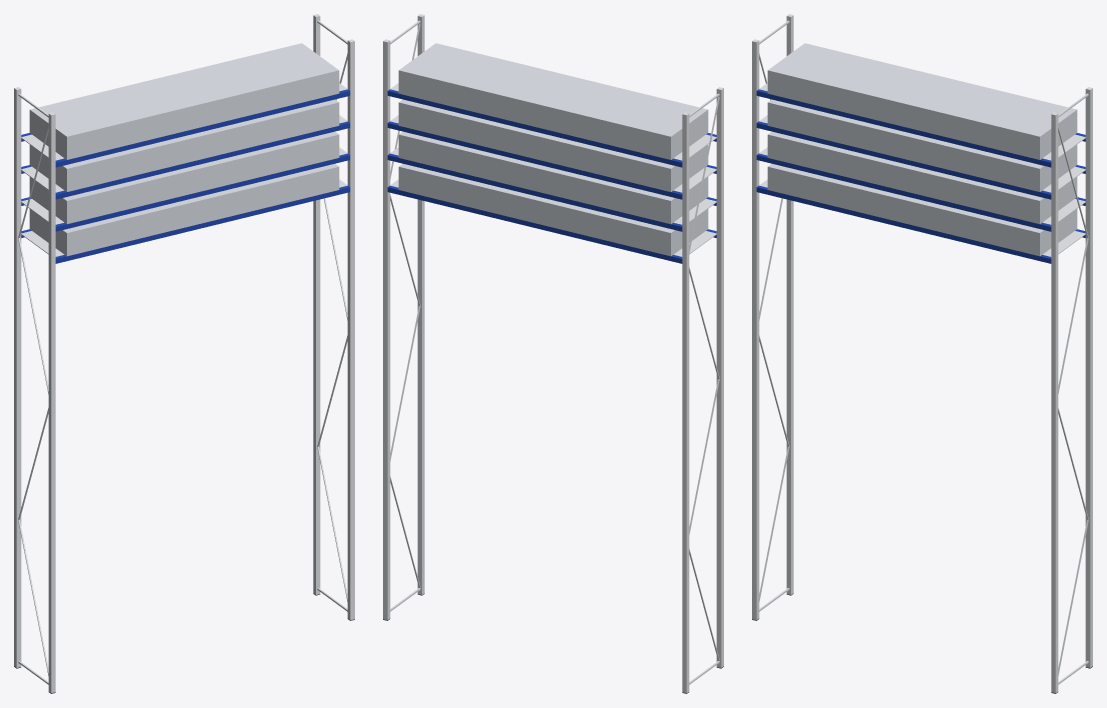
File: SM_MPR_CADRack_F16_W192_Passage_LOD2.fbx
3 views of the same model, side by side, from view 1: azimuth 30°, elevation 25°; view 2: azimuth 150°, elevation 25°; view 3: azimuth 330°, elevation 25° (orthographic).
Visible parts, largest first — view 1: SM_MPR_CADRack_F16_W192_Passage_LOD2; view 2: SM_MPR_CADRack_F16_W192_Passage_LOD2; view 3: SM_MPR_CADRack_F16_W192_Passage_LOD2.
Boxes of the visible parts, left/top/right/bottom form: SM_MPR_CADRack_F16_W192_Passage_LOD2: left=14, top=14, right=354, bottom=693; SM_MPR_CADRack_F16_W192_Passage_LOD2: left=383, top=14, right=723, bottom=693; SM_MPR_CADRack_F16_W192_Passage_LOD2: left=752, top=14, right=1092, bottom=693.
Size of the model in its own units: 503 by 107 by 915.
